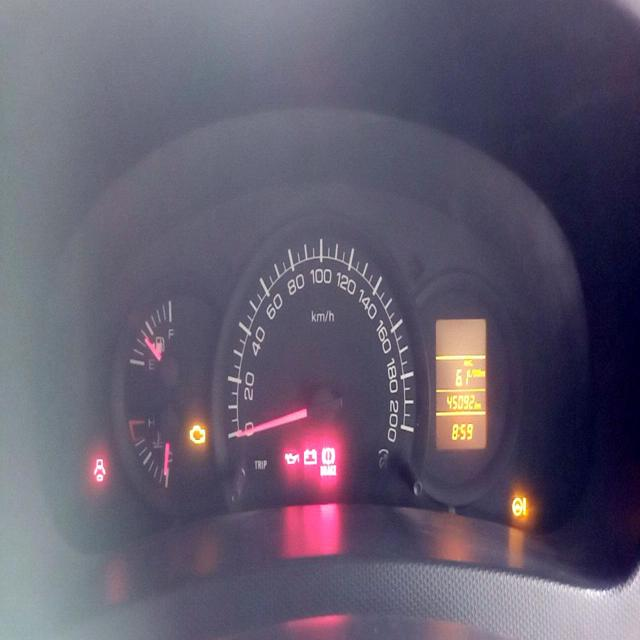odometer: (444, 390, 475, 412)
